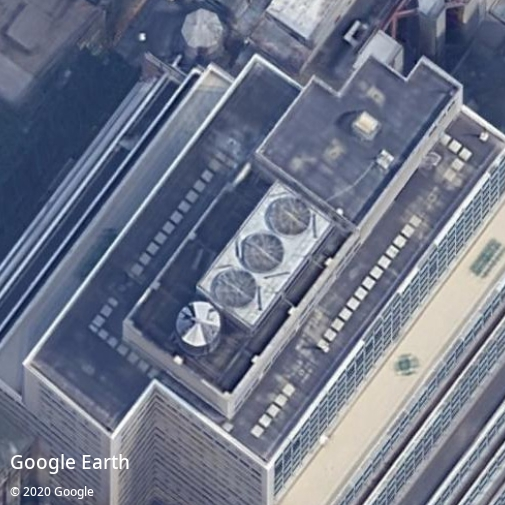Vent: (242, 232, 285, 273), (214, 268, 256, 309), (269, 197, 311, 236)
